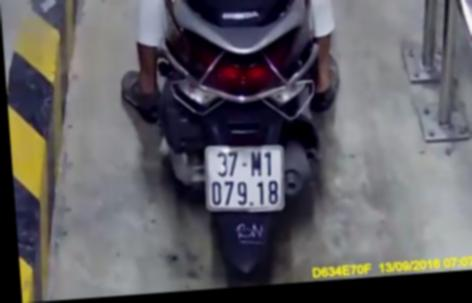License_Plate: (192, 136, 297, 222)
